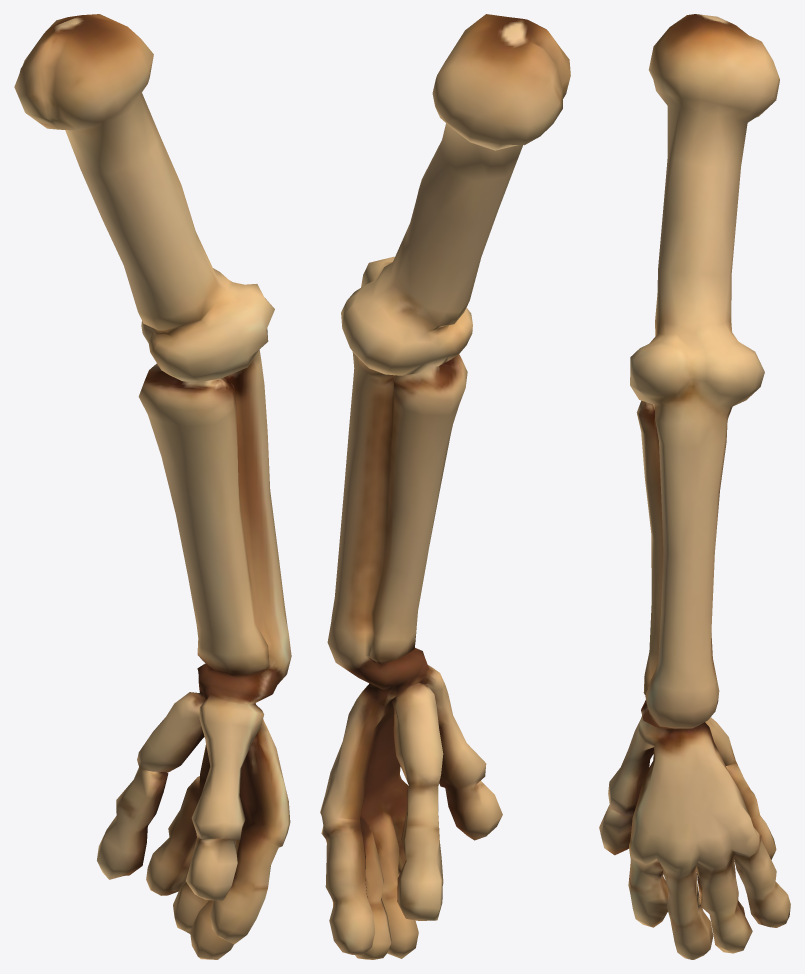
File: brazoIzq.obj
3 renders of one model, left to right at view 1: azimuth 30°, elevation 25°; view 2: azimuth 150°, elevation 25°; view 3: azimuth 270°, elevation 25°, orthographic. The views are drawn at different scales.
Parts seen in each view (by area): view 1: brazoDer; view 2: brazoDer; view 3: brazoDer.
Part boxes in pixels (x1,y1,x2,y2): brazoDer: (14,14,291,959); brazoDer: (320,14,570,959); brazoDer: (599,14,790,959).
Size of the model in its own units: 0.1054 by 0.4006 by 0.0785.
1 material, 1 textured.
